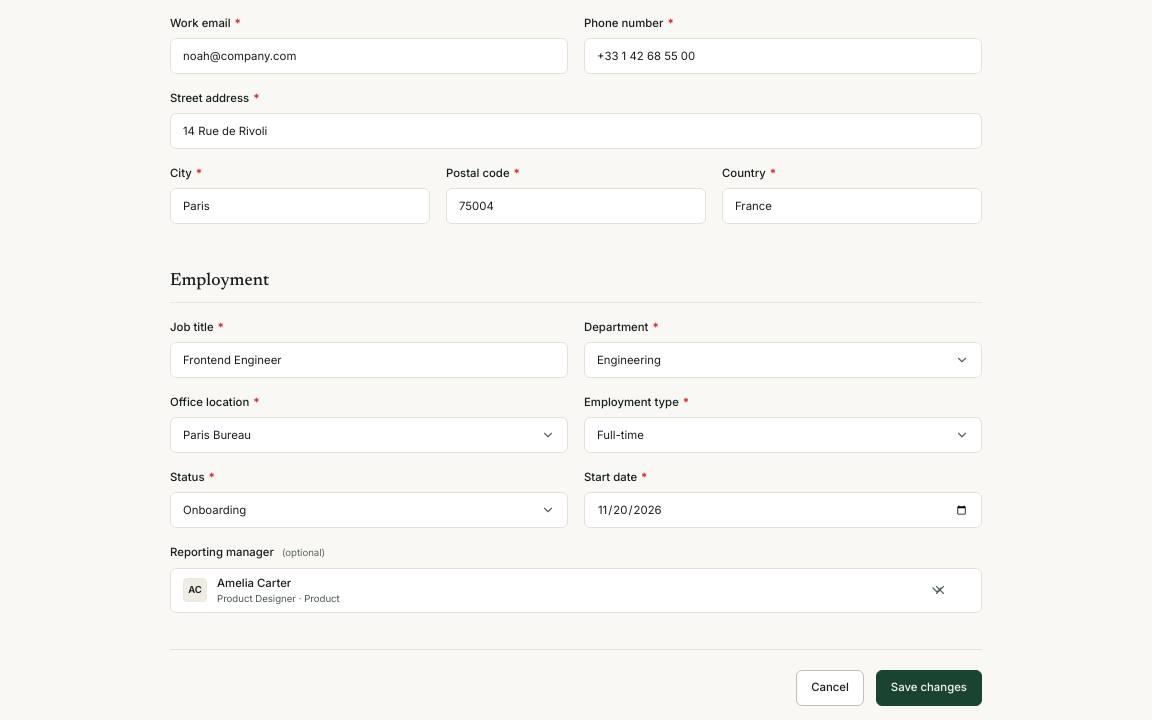
Test: Employee Edit Flow Integration › shows unsaved changes warning when user edits a field
(page scrolled)
Check: the text "unsaved modifications in progress" is not shown
Type " Senior" into the field labelled "Job title *" at (369,360), box top-left (170, 342), bottom-right (568, 378)
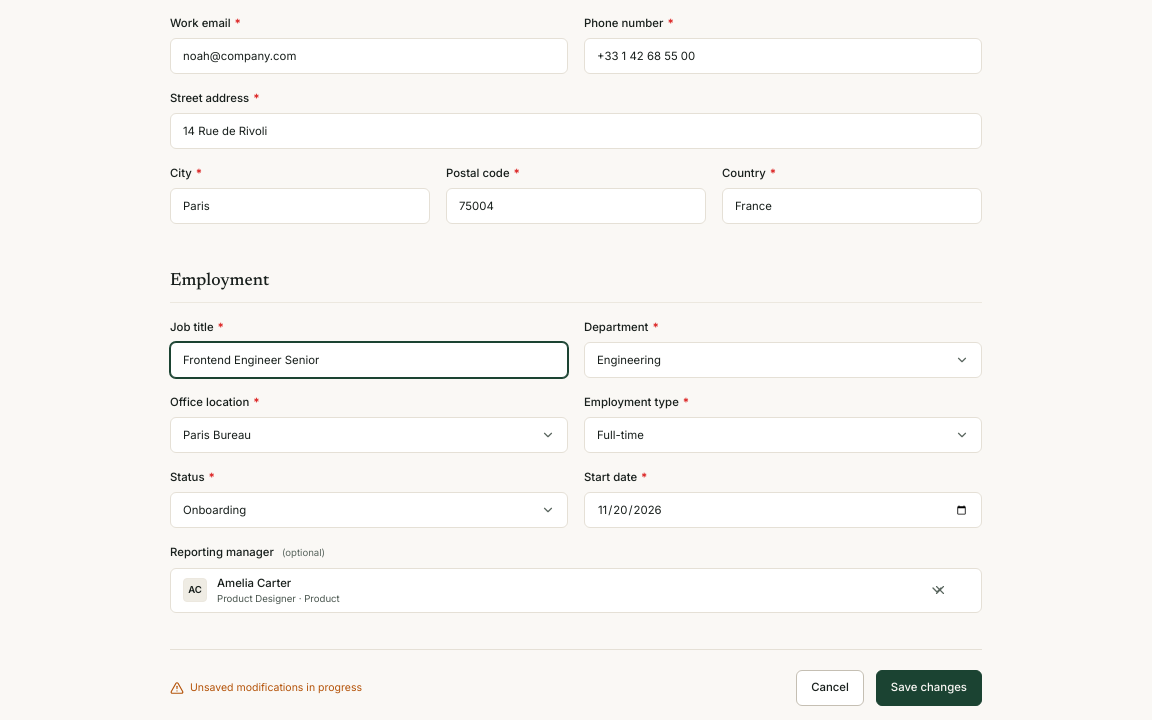
Check: the text "Unsaved modifications in progress" is shown, box top-left (190, 680), bottom-right (362, 696)
